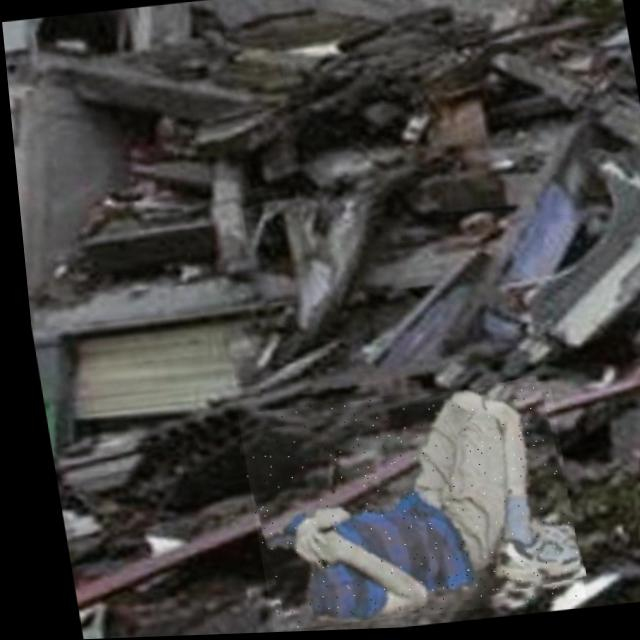Person in Rubble: (226, 383, 574, 633)
